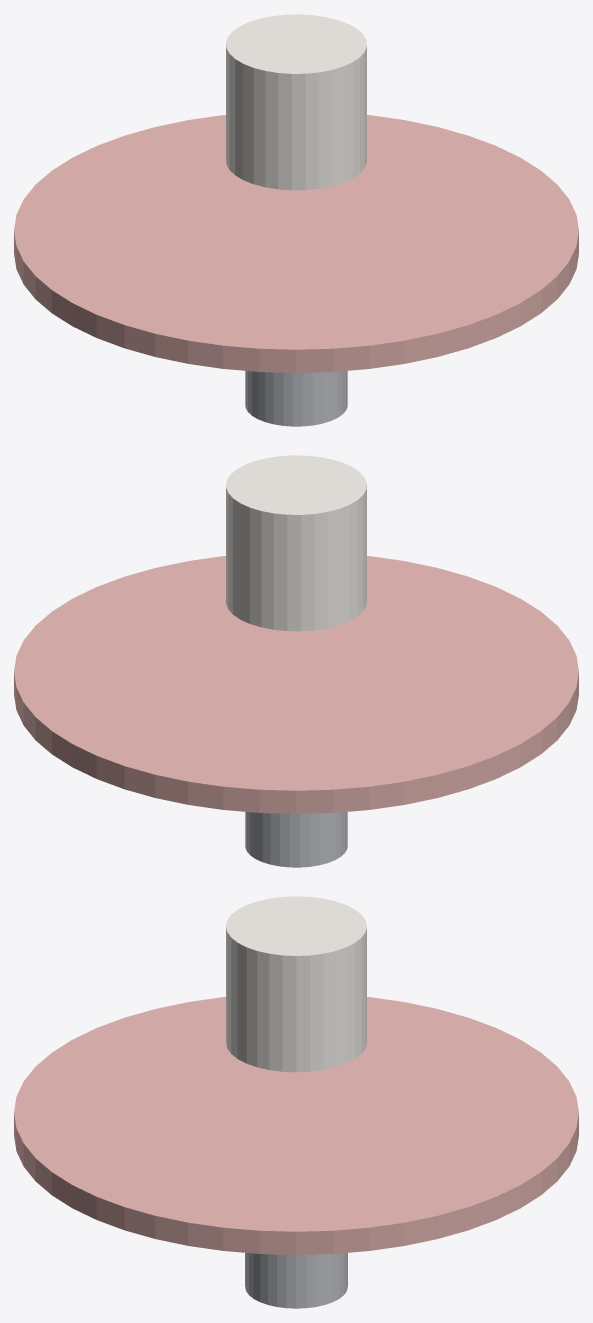
File: IMPLANT_CROWN__HERO__OPTIMISED__v1.glb
3 views of the same model, one above another, from view 1: azimuth 30°, elevation 25°; view 2: azimuth 150°, elevation 25°; view 3: azimuth 270°, elevation 25° (orthographic).
Parts seen in each view (by area): view 1: OBJ_GINGIVA_CONTEXT, OBJ_IMPLANT_CROWN, OBJ_IMPLANT_FIXTURE; view 2: OBJ_GINGIVA_CONTEXT, OBJ_IMPLANT_CROWN, OBJ_IMPLANT_FIXTURE; view 3: OBJ_GINGIVA_CONTEXT, OBJ_IMPLANT_CROWN, OBJ_IMPLANT_FIXTURE.
Part boxes in pixels (x1,y1,x2,y2): OBJ_GINGIVA_CONTEXT: [14, 115, 578, 372]; OBJ_IMPLANT_CROWN: [226, 14, 366, 190]; OBJ_IMPLANT_FIXTURE: [245, 371, 347, 426]; OBJ_GINGIVA_CONTEXT: [14, 556, 578, 813]; OBJ_IMPLANT_CROWN: [226, 455, 366, 631]; OBJ_IMPLANT_FIXTURE: [245, 812, 347, 867]; OBJ_GINGIVA_CONTEXT: [14, 997, 578, 1254]; OBJ_IMPLANT_CROWN: [226, 896, 366, 1072]; OBJ_IMPLANT_FIXTURE: [245, 1253, 347, 1308].
Bounding box in the file's own units: 0.44 × 0.31 × 0.44.
